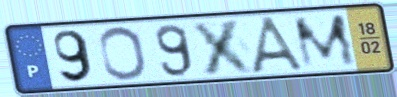9: (52, 28, 94, 85), (154, 22, 195, 79)
A: (248, 14, 311, 74)
M: (290, 11, 360, 71)
O: (97, 24, 150, 82)
X: (188, 17, 260, 77)
